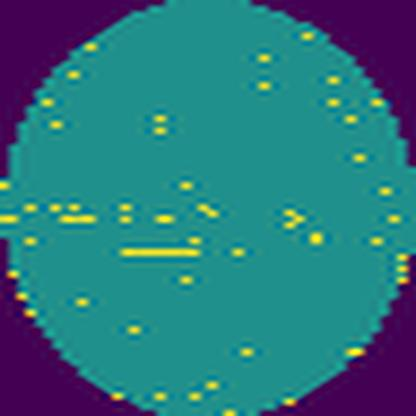Scratch: (115, 241, 205, 265)
